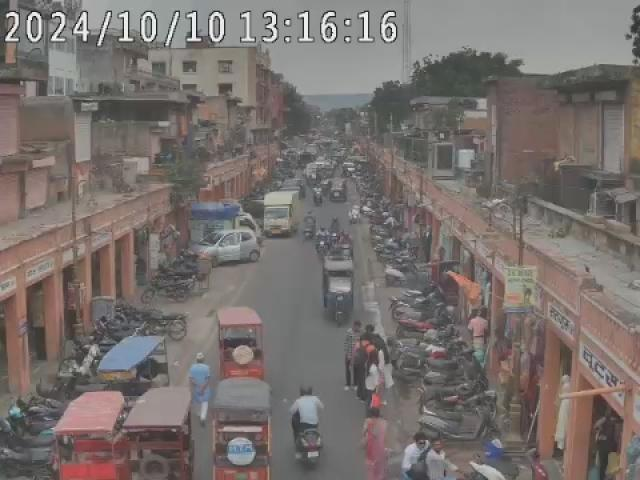auto: (54, 385, 125, 479), (210, 375, 274, 476), (96, 334, 172, 394), (214, 307, 266, 381), (323, 256, 358, 324)
car: (214, 230, 262, 266)
lorry: (262, 191, 296, 239)
motorbike: (398, 322, 460, 358), (138, 308, 190, 340), (148, 274, 194, 304)
motorbike-rider: (400, 433, 460, 480)
scooty: (416, 400, 504, 444), (0, 406, 52, 472), (468, 447, 548, 480), (423, 363, 491, 394)
scooty-rider: (292, 385, 326, 469)
